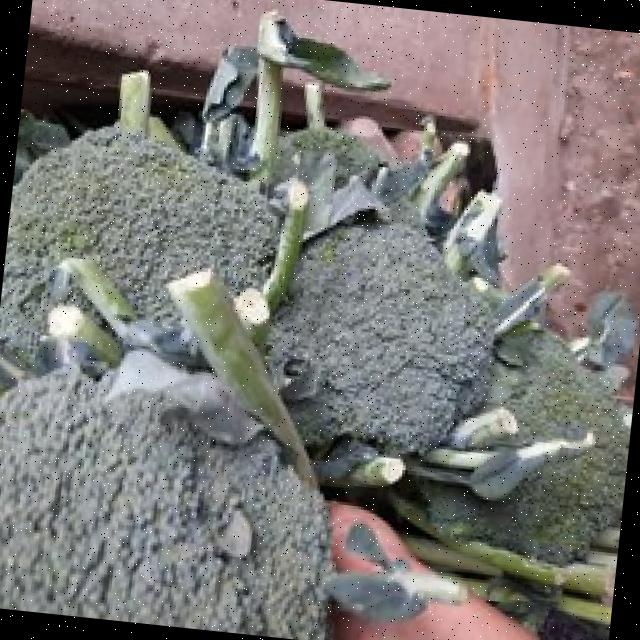Broccoli: (0, 370, 332, 640), (0, 126, 281, 354), (0, 126, 281, 353), (267, 221, 491, 451), (268, 221, 491, 451), (418, 329, 630, 562), (419, 329, 630, 563)
